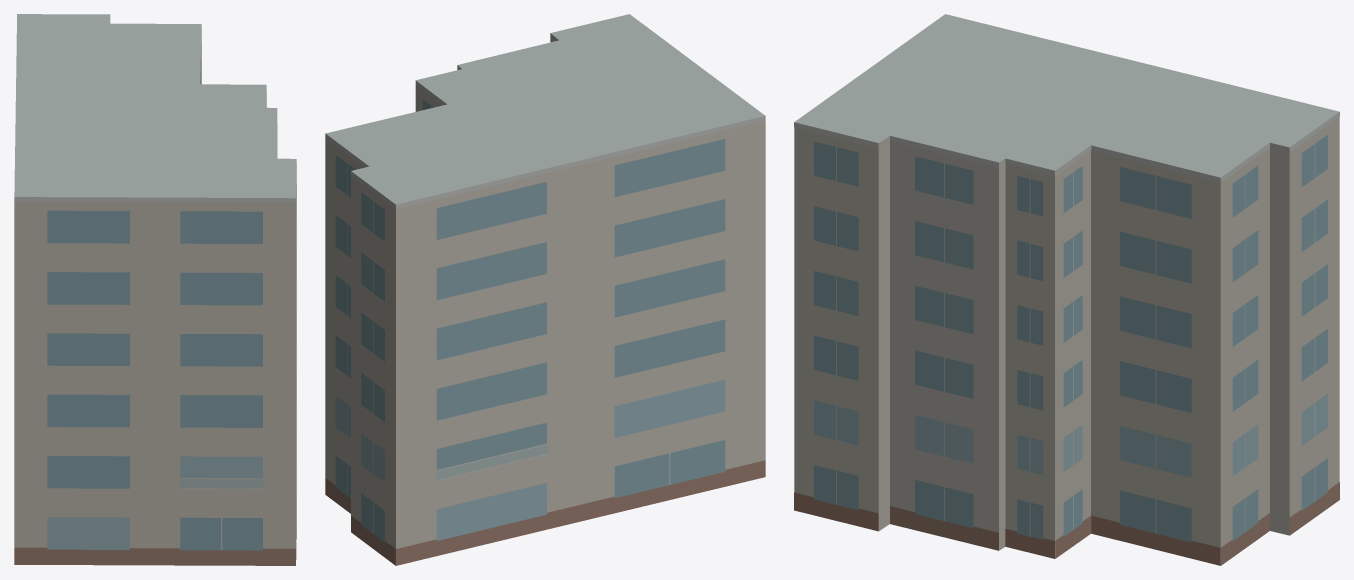
File: survey-upis-32583766.glb
3 views of the same model, side by side, from view 1: azimuth 30°, elevation 25°; view 2: azimuth 150°, elevation 25°; view 3: azimuth 270°, elevation 25° (orthographic). The views are drawn at different scales.
Visible parts, largest first — view 1: survey-upis-32583766.tmp; view 2: survey-upis-32583766.tmp; view 3: survey-upis-32583766.tmp.
Boxes of the visible parts, <box> form: survey-upis-32583766.tmp: <box>14,14,296,565</box>; survey-upis-32583766.tmp: <box>325,14,765,565</box>; survey-upis-32583766.tmp: <box>794,14,1339,565</box>.
Size of the model in its own units: 16.55 by 18.3 by 23.32.
